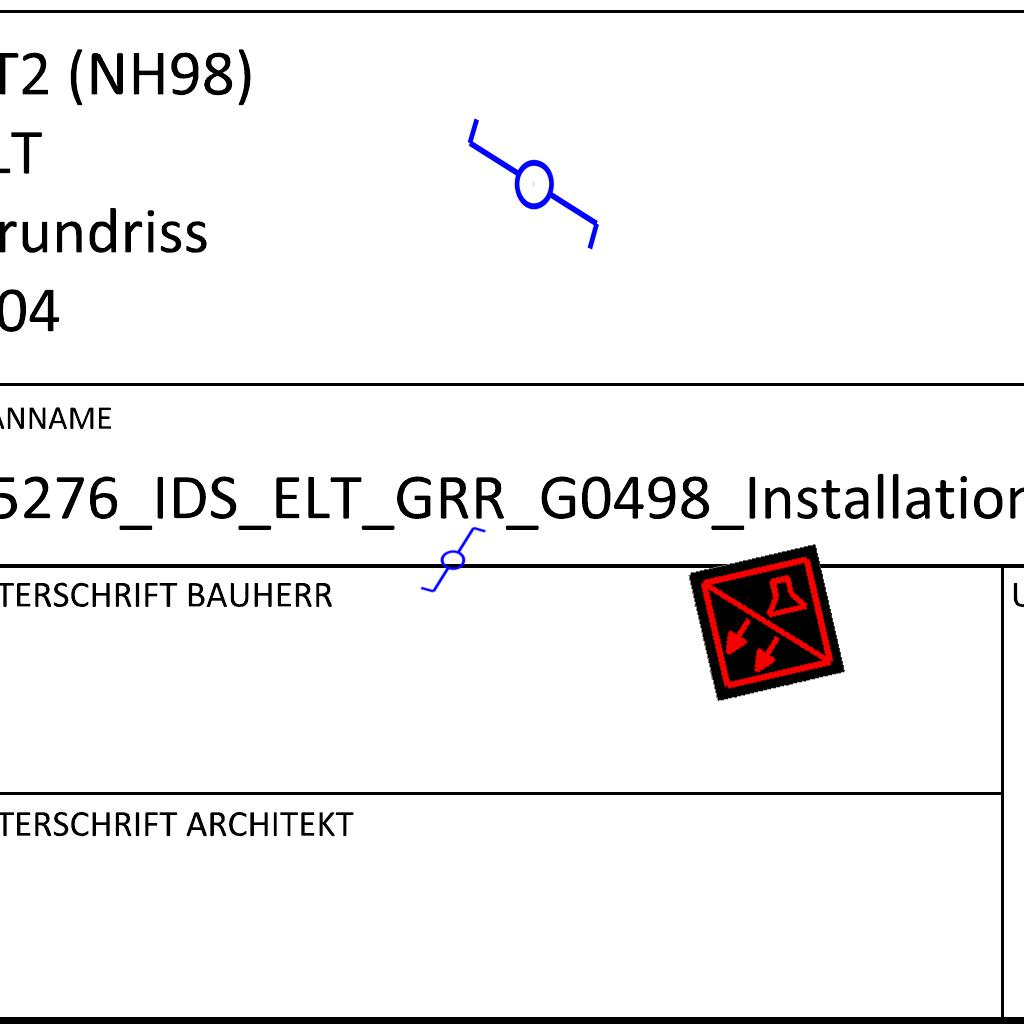OKW_Multisensormelder_(Kombination_optischer_Rauch-Kahlenmonoxid_Waerme-Melder): (686, 543, 846, 703)
Wechselschalter: (460, 114, 604, 271), (410, 523, 488, 595)
